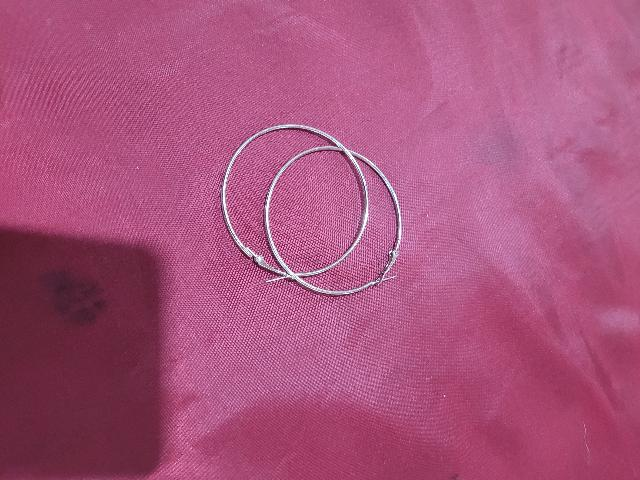Metal: (225, 120, 405, 302)
